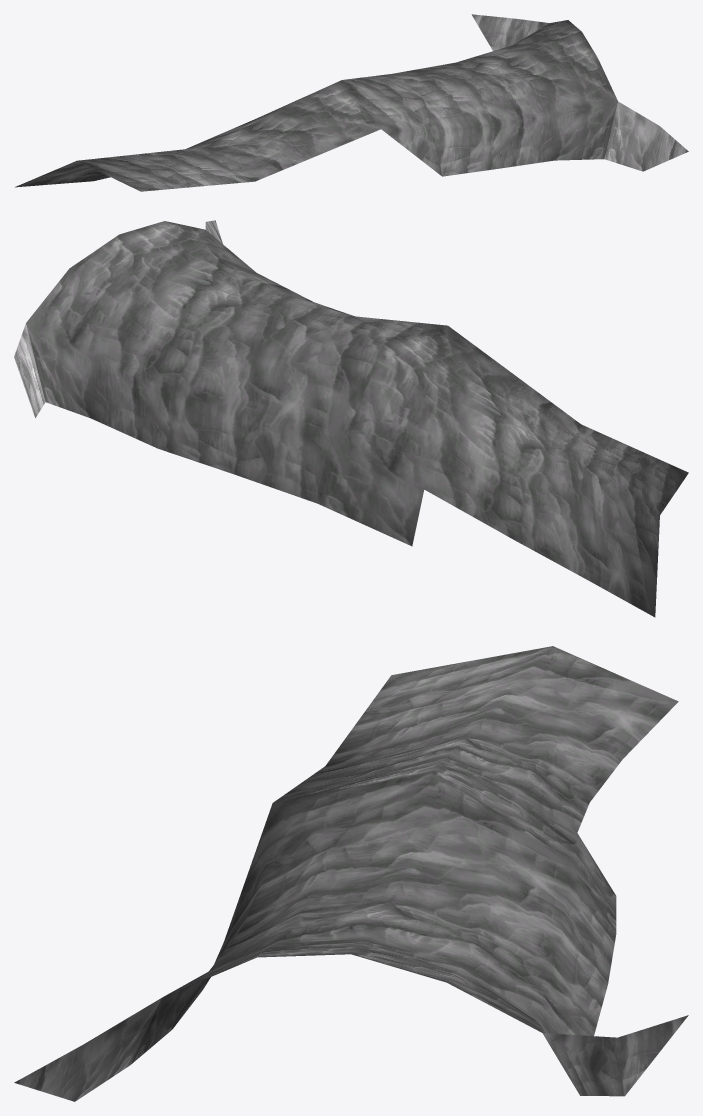
File: SWORDLIGHT20_PS-AREA03_42.fbx
The picture shows the model from 3 angles, top to bottom: view 1: azimuth 30°, elevation 25°; view 2: azimuth 150°, elevation 25°; view 3: azimuth 270°, elevation 25°; orthographic projection. The views are drawn at different scales.
Parts seen in each view (by area): view 1: SWORDLIGHT20_PS-AREA03_42; view 2: SWORDLIGHT20_PS-AREA03_42; view 3: SWORDLIGHT20_PS-AREA03_42.
Boxes of the visible parts, <box> form: SWORDLIGHT20_PS-AREA03_42: <box>15,14,688,191</box>; SWORDLIGHT20_PS-AREA03_42: <box>14,220,688,617</box>; SWORDLIGHT20_PS-AREA03_42: <box>14,646,688,1101</box>.
Bounding box in the file's own units: 258637 × 53844 × 159750.
2 materials, 2 textured.
